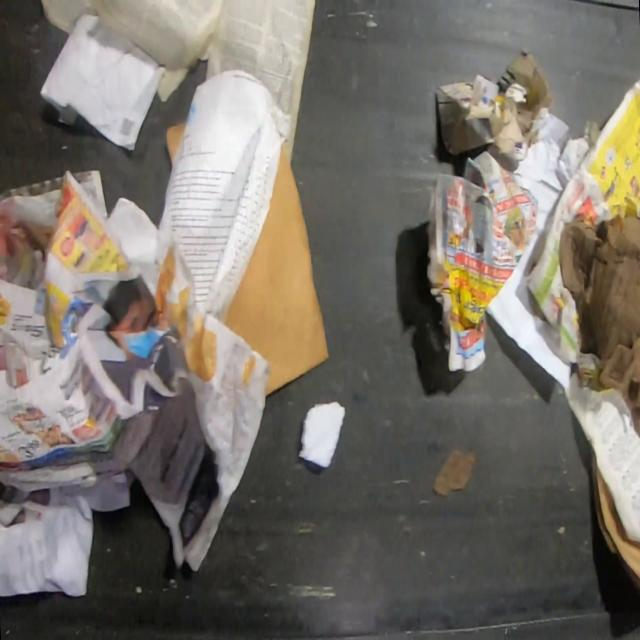cardboard: (225, 137, 331, 397), (557, 214, 640, 436), (592, 448, 638, 580), (164, 122, 185, 167)
